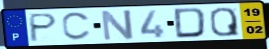4: (138, 9, 167, 39)
C: (61, 11, 93, 42)
D: (173, 6, 208, 39)
N: (100, 9, 136, 42)
P: (29, 12, 59, 43)
Q: (209, 6, 241, 37)
